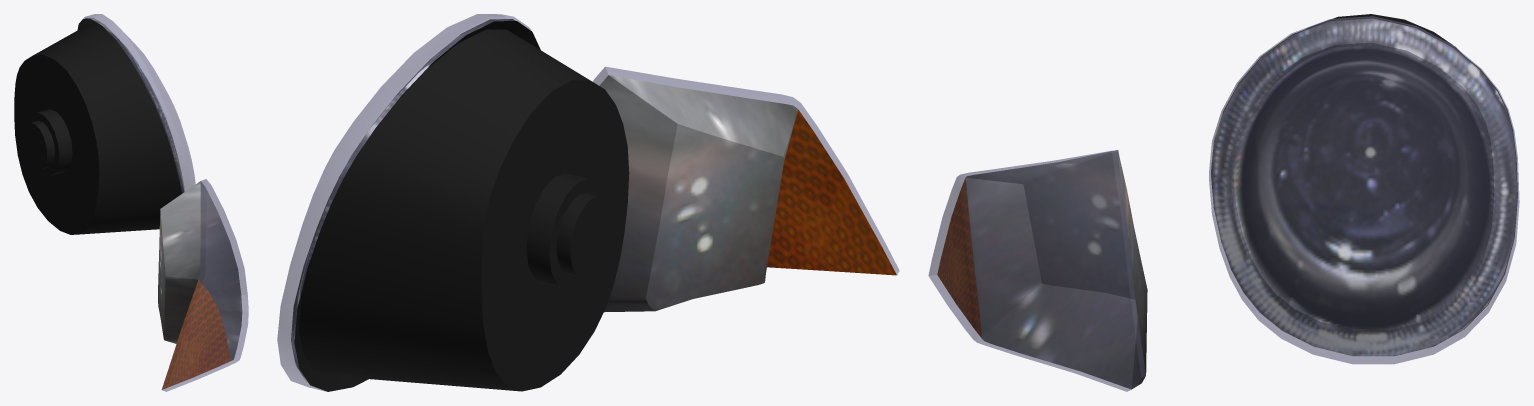
3 renders of one model, left to right at view 1: azimuth 30°, elevation 25°; view 2: azimuth 150°, elevation 25°; view 3: azimuth 270°, elevation 25°, orthographic. The views are drawn at different scales.
Parts seen in each view (by area): view 1: J220_061B_R_J220_061B_R_4_D, J220_061B_R_1_N_J220_061B_R, J220_061B_R_J220_061B_R_6_DTaSI, J220_061B_R_J220_061B_R_2_N, J220_061B_R_J220_061B_R_5_DTaSI, J220_061B_R_J220_061B_R_3_N; view 2: J220_061B_R_J220_061B_R_4_D, J220_061B_R_1_N_J220_061B_R, J220_061B_R_J220_061B_R_2_N, J220_061B_R_J220_061B_R_5_DTaSI, J220_061B_R_J220_061B_R_6_DTaSI, J220_061B_R_J220_061B_R_3_N; view 3: J220_061B_R_J220_061B_R_5_DTaSI, J220_061B_R_J220_061B_R_3_N, J220_061B_R_J220_061B_R_6_DTaSI, J220_061B_R_1_N_J220_061B_R, J220_061B_R_J220_061B_R_2_N, J220_061B_R_J220_061B_R_4_D.
Boxes of the visible parts, left/top/right/bottom form: J220_061B_R_J220_061B_R_4_D: left=14, top=19, right=181, bottom=234; J220_061B_R_1_N_J220_061B_R: left=158, top=181, right=242, bottom=360; J220_061B_R_J220_061B_R_6_DTaSI: left=162, top=179, right=248, bottom=391; J220_061B_R_J220_061B_R_2_N: left=162, top=280, right=231, bottom=389; J220_061B_R_J220_061B_R_5_DTaSI: left=83, top=14, right=195, bottom=193; J220_061B_R_J220_061B_R_3_N: left=85, top=18, right=184, bottom=193; J220_061B_R_J220_061B_R_4_D: left=294, top=21, right=629, bottom=391; J220_061B_R_1_N_J220_061B_R: left=599, top=75, right=798, bottom=312; J220_061B_R_J220_061B_R_2_N: left=767, top=110, right=896, bottom=275; J220_061B_R_J220_061B_R_5_DTaSI: left=277, top=14, right=531, bottom=391; J220_061B_R_J220_061B_R_6_DTaSI: left=593, top=66, right=899, bottom=274; J220_061B_R_J220_061B_R_3_N: left=291, top=19, right=514, bottom=382; J220_061B_R_J220_061B_R_5_DTaSI: left=1209, top=16, right=1519, bottom=364; J220_061B_R_J220_061B_R_3_N: left=1211, top=18, right=1517, bottom=356; J220_061B_R_J220_061B_R_6_DTaSI: left=928, top=150, right=1145, bottom=391; J220_061B_R_1_N_J220_061B_R: left=965, top=150, right=1147, bottom=389; J220_061B_R_J220_061B_R_2_N: left=937, top=178, right=981, bottom=337; J220_061B_R_J220_061B_R_4_D: left=1223, top=14, right=1517, bottom=346.
Size of the model in its own units: 23.41 by 31.7 by 50.37.
